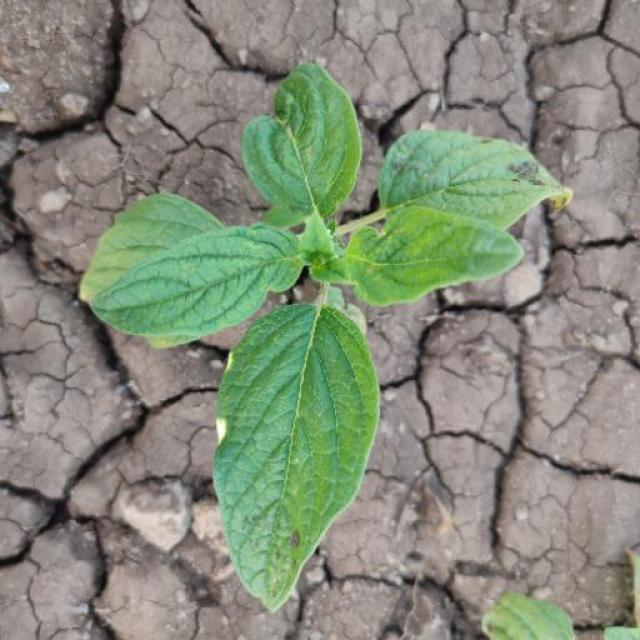crop: (56, 36, 589, 610)
